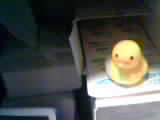duck: (92, 36, 148, 86)
